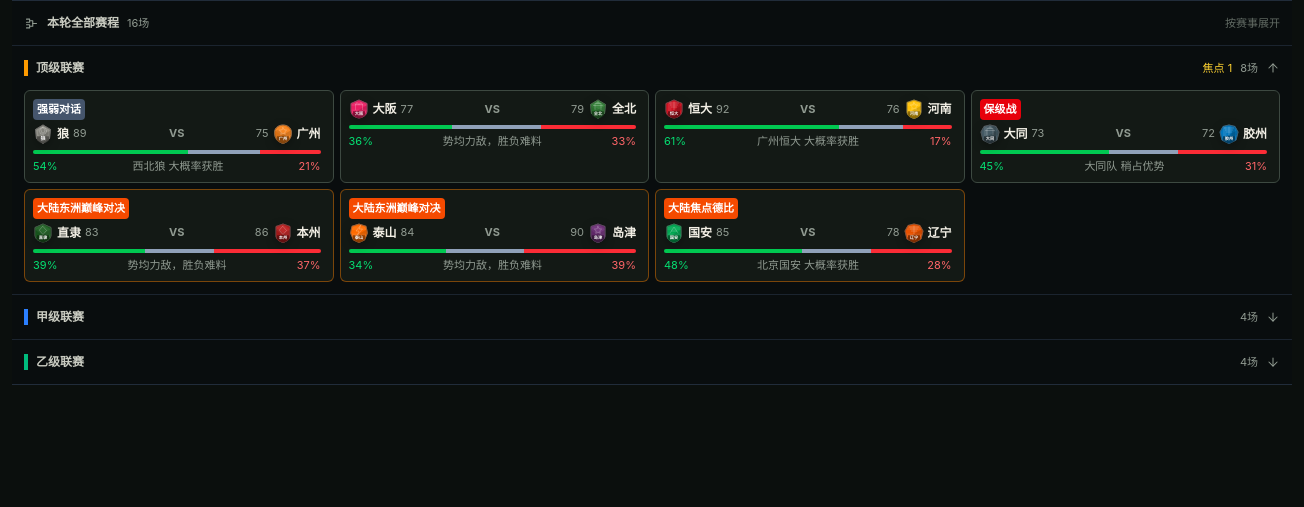
Test: Dashboard fixture groups › opens the observed competition and does not render collapsed fixture cards
The width and height of the screenshot is (1304, 507).
Expected: the number of elements with test id "fixture-group-content" is 1, [12,90,1292,294]
Step 1. Click the button with test id "fixture-group-toggle" showing "甲级联赛 4场" → (60, 316), box [12,295,1292,339]
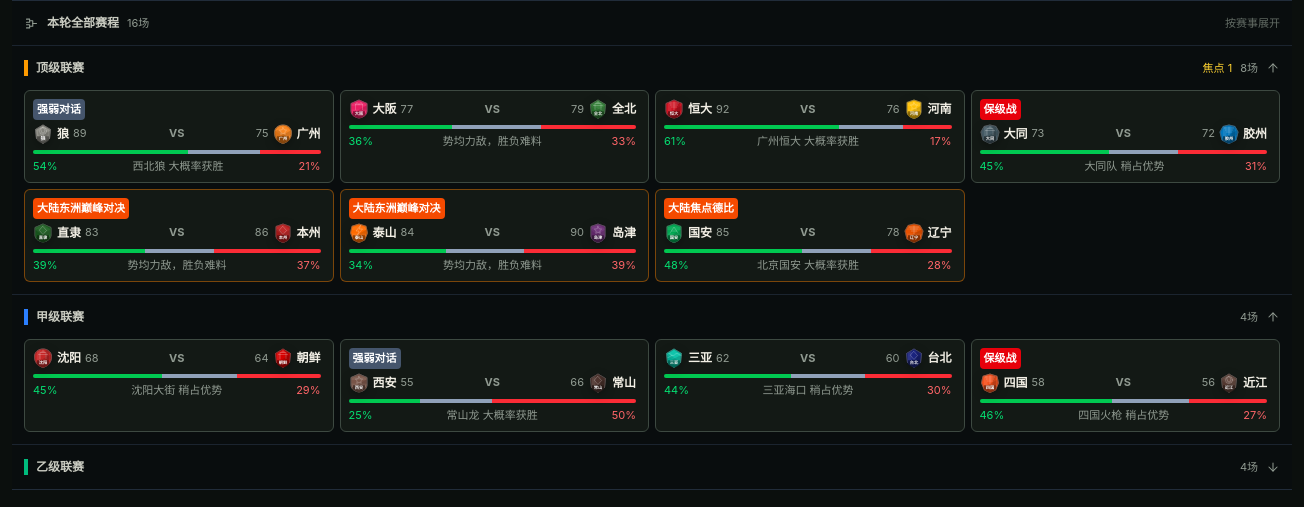
Result: the number of elements with test id "fixture-group-content" is 2 at [12,90,1292,294]; [12,339,1292,444]
Result: the number of elements with class "fixture-sheet" is 11
